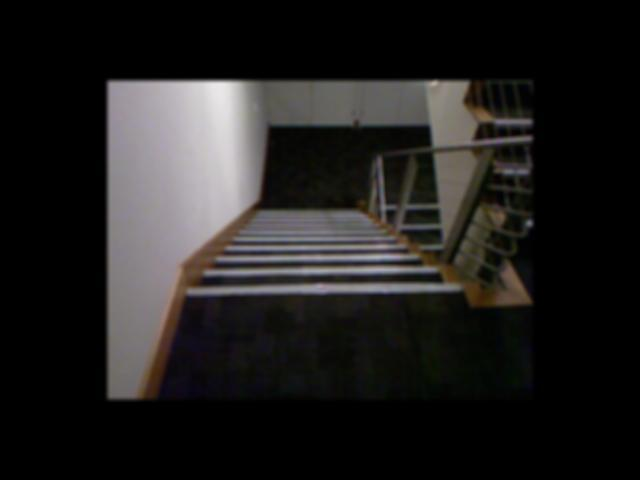Escaleras: (215, 208, 454, 300), (435, 85, 532, 286), (363, 198, 472, 272)
